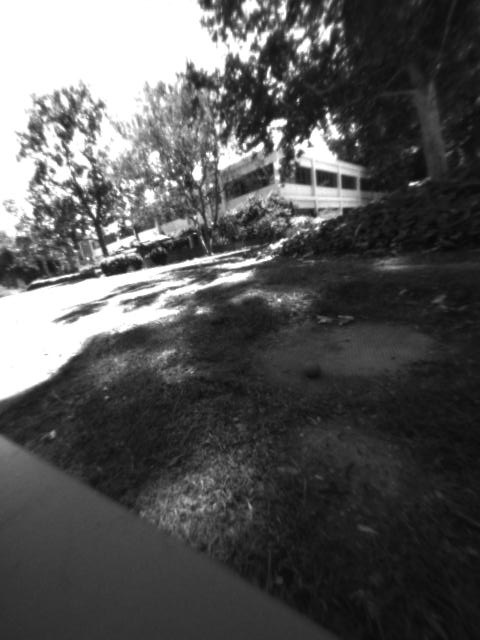dogtoy: (296, 351, 332, 383)
